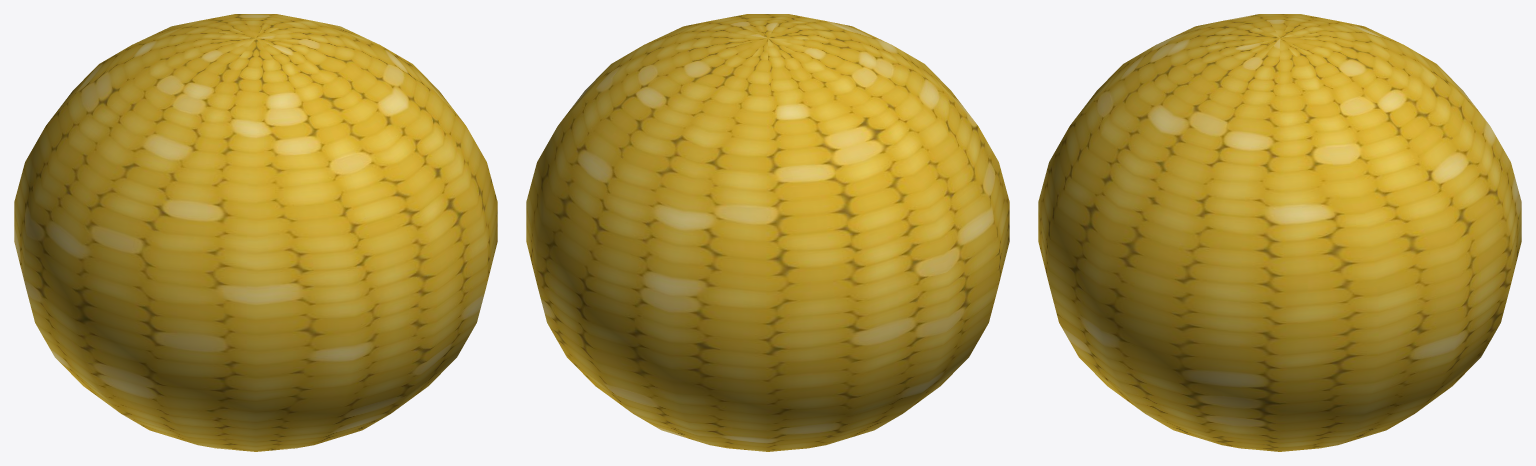
Rendered from misir.fbx.
3 renders of one model, left to right at view 1: azimuth 30°, elevation 25°; view 2: azimuth 150°, elevation 25°; view 3: azimuth 270°, elevation 25°, orthographic.
Parts seen in each view (by area): view 1: Head; view 2: Head; view 3: Head.
Boxes of the visible parts, x1=… form: Head: x1=14, y1=14, x2=497, y2=451; Head: x1=526, y1=14, x2=1009, y2=451; Head: x1=1038, y1=14, x2=1521, y2=451.
Size of the model in its own units: 9.84 by 8.78 by 9.89.
